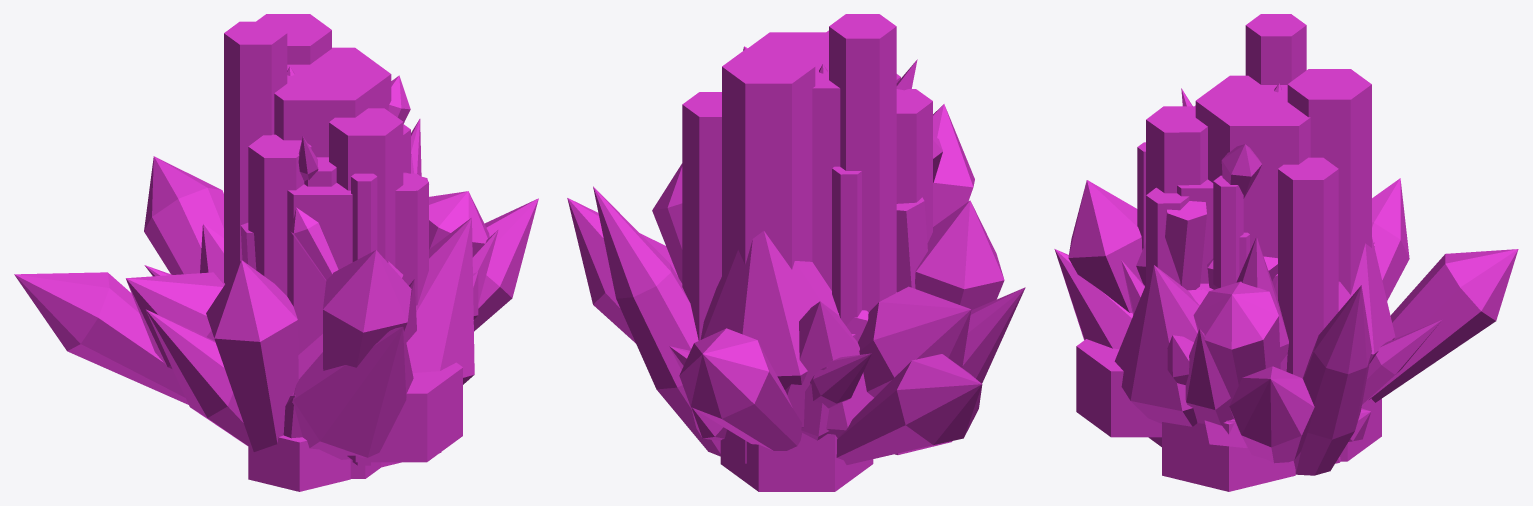
The model's file is Crystal_Mesh.fbx.
3 views of the same model, side by side, from view 1: azimuth 30°, elevation 25°; view 2: azimuth 150°, elevation 25°; view 3: azimuth 270°, elevation 25° (orthographic). The views are drawn at different scales.
Visible parts, largest first — view 1: Crystal Chunk 3, Crystal Chunk 5, Crystal Chunk 4, Crystal Chunk 2, Crystal_solo_2; view 2: Crystal Chunk 3, Crystal Chunk 4, Crystal Chunk 5, Crystal_solo_2, Crystal Chunk 2; view 3: Crystal Chunk 3, Crystal Chunk 4, Crystal Chunk 5, Crystal Chunk 2, Crystal_solo_2, Crystal Chunk 1.
Part boxes in pixels (x1,y1,x2,y2): Crystal Chunk 3: (14, 119, 538, 459); Crystal Chunk 5: (206, 66, 462, 491); Crystal Chunk 4: (224, 14, 428, 305); Crystal Chunk 2: (283, 230, 498, 438); Crystal_solo_2: (200, 154, 414, 281); Crystal Chunk 3: (567, 163, 1025, 464); Crystal Chunk 4: (682, 14, 932, 463); Crystal Chunk 5: (720, 46, 1004, 491); Crystal_solo_2: (785, 301, 873, 437); Crystal Chunk 2: (669, 346, 829, 440); Crystal Chunk 3: (1054, 178, 1518, 475); Crystal Chunk 4: (1146, 14, 1371, 442); Crystal Chunk 5: (1068, 83, 1381, 491); Crystal Chunk 2: (1121, 260, 1442, 447); Crystal_solo_2: (1207, 237, 1288, 362); Crystal Chunk 1: (1167, 335, 1193, 384).
Bounding box in the file's own units: 62.63 × 73.64 × 67.34.
